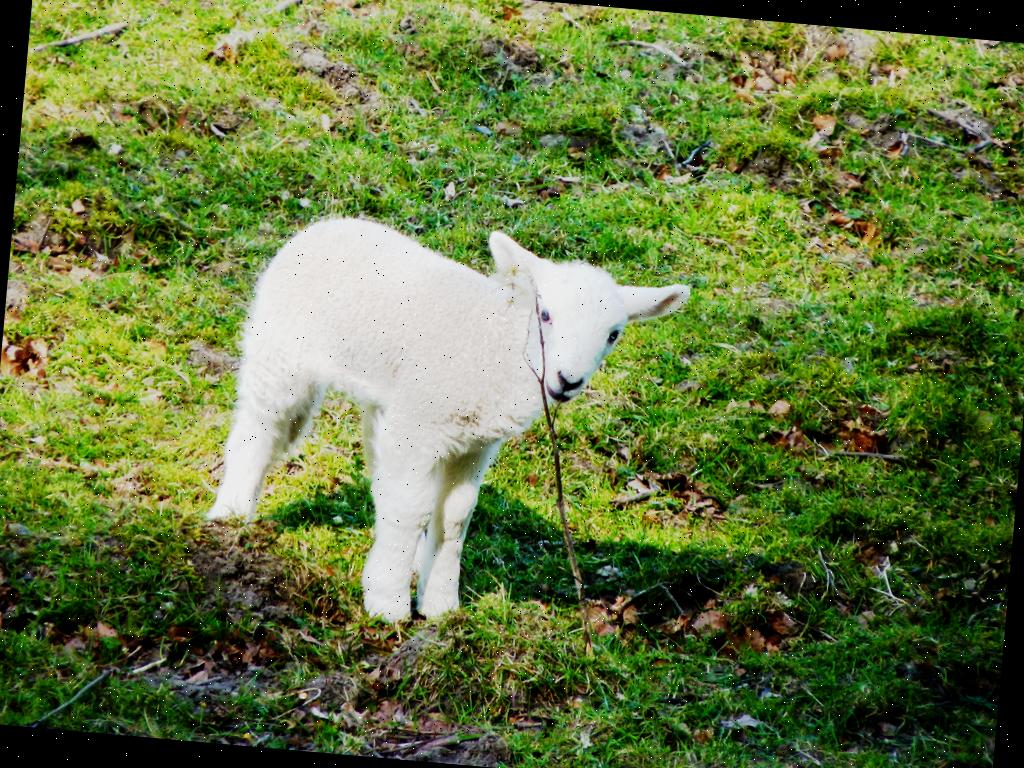Sheep: (198, 205, 692, 648)
